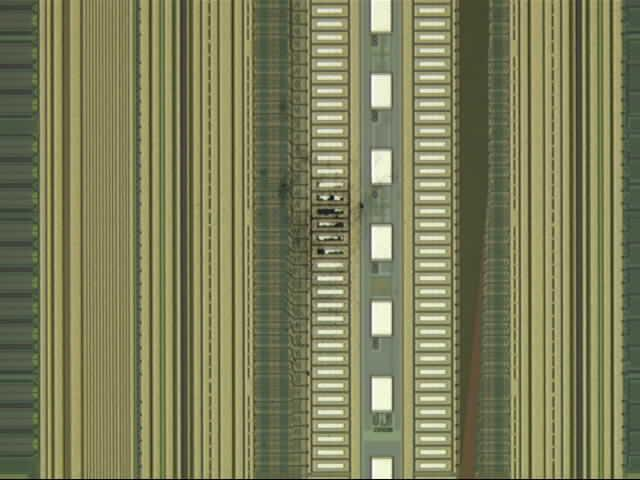PO CONTAMINATION: (272, 99, 383, 264)
